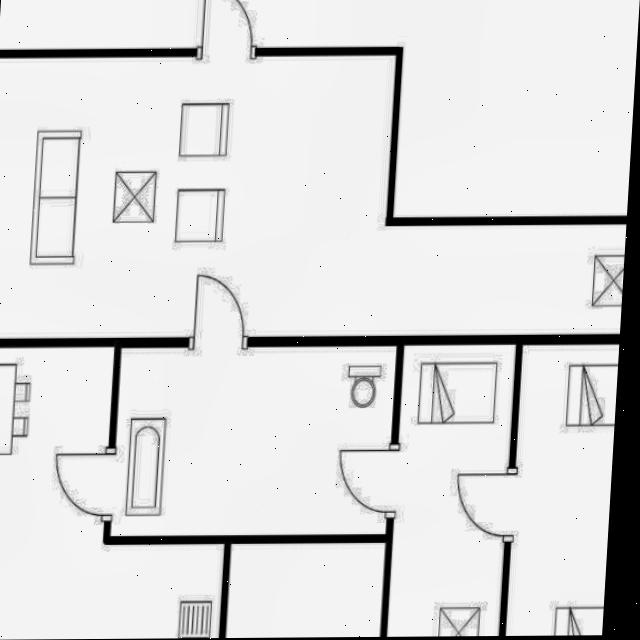room: (0, 54, 627, 339), (0, 347, 223, 640), (108, 346, 397, 536), (386, 338, 515, 640), (505, 339, 619, 640)
